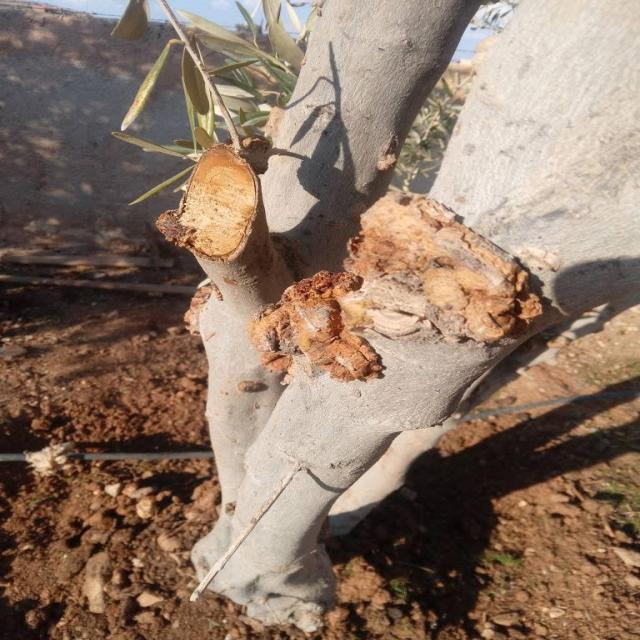Tuberculosis: (248, 272, 385, 382)
